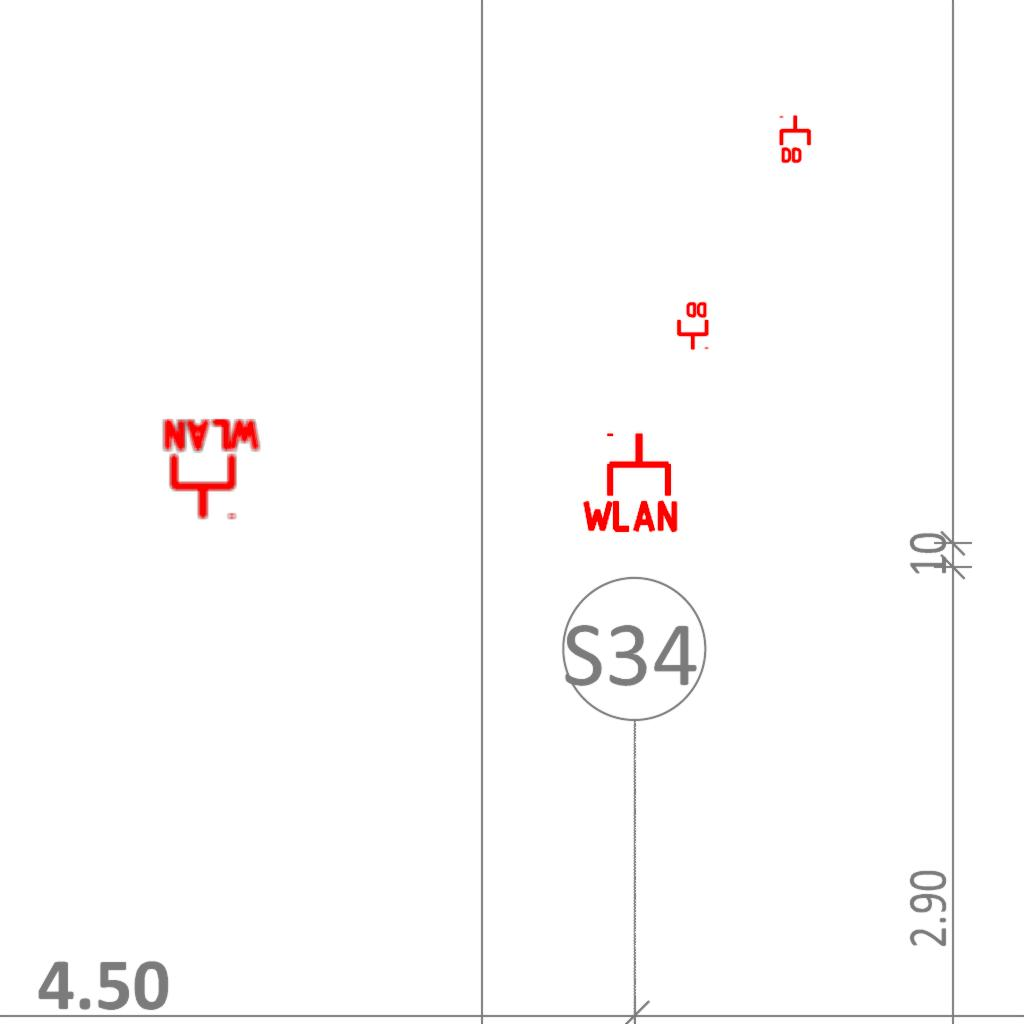Datenanschluss_zweifach: (675, 300, 709, 351), (779, 114, 813, 165)
WLAN: (578, 429, 682, 534), (160, 417, 264, 522)
